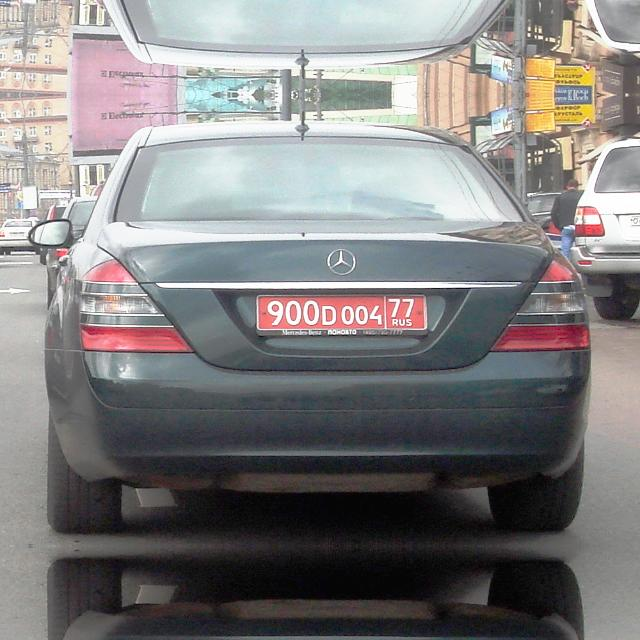diplomatic: (255, 291, 431, 339)
